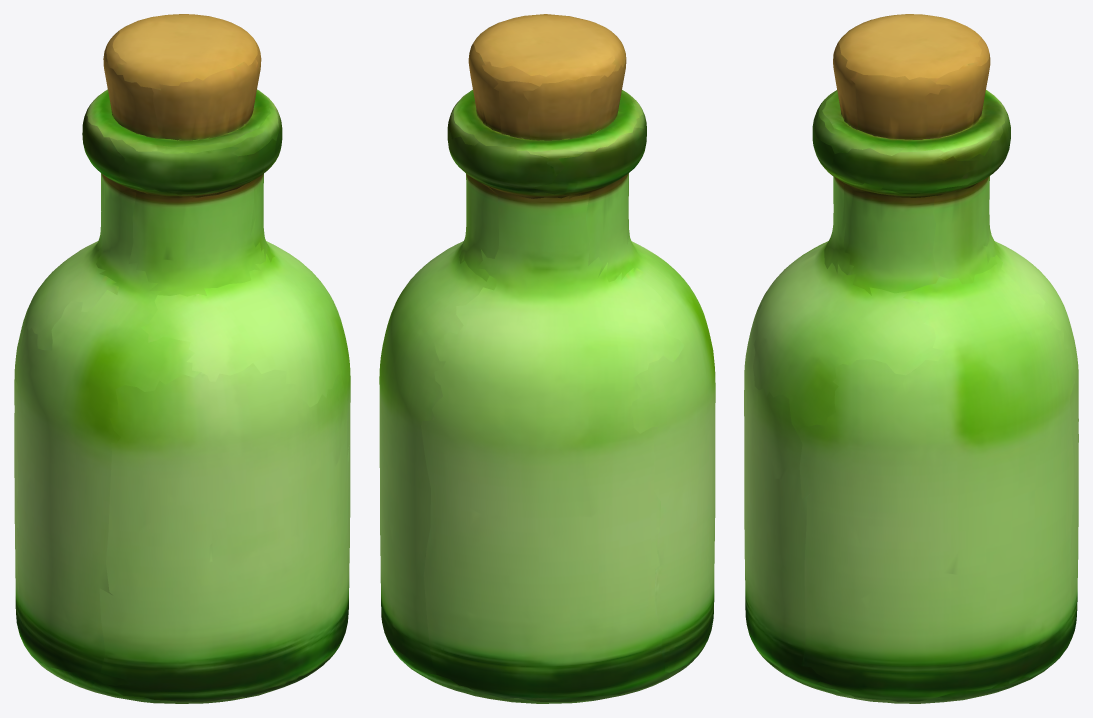
Rendered from i-bottle.glb.
3 views of the same model, side by side, from view 1: azimuth 30°, elevation 25°; view 2: azimuth 150°, elevation 25°; view 3: azimuth 270°, elevation 25° (orthographic).
Visible parts, largest first — view 1: geometry_0; view 2: geometry_0; view 3: geometry_0.
Boxes of the visible parts, bbox=[...] form: geometry_0: bbox=[14, 14, 350, 703]; geometry_0: bbox=[379, 14, 715, 703]; geometry_0: bbox=[744, 14, 1078, 703].
Size of the model in its own units: 0.0653 by 0.13 by 0.0652.
1 material, 1 textured.
